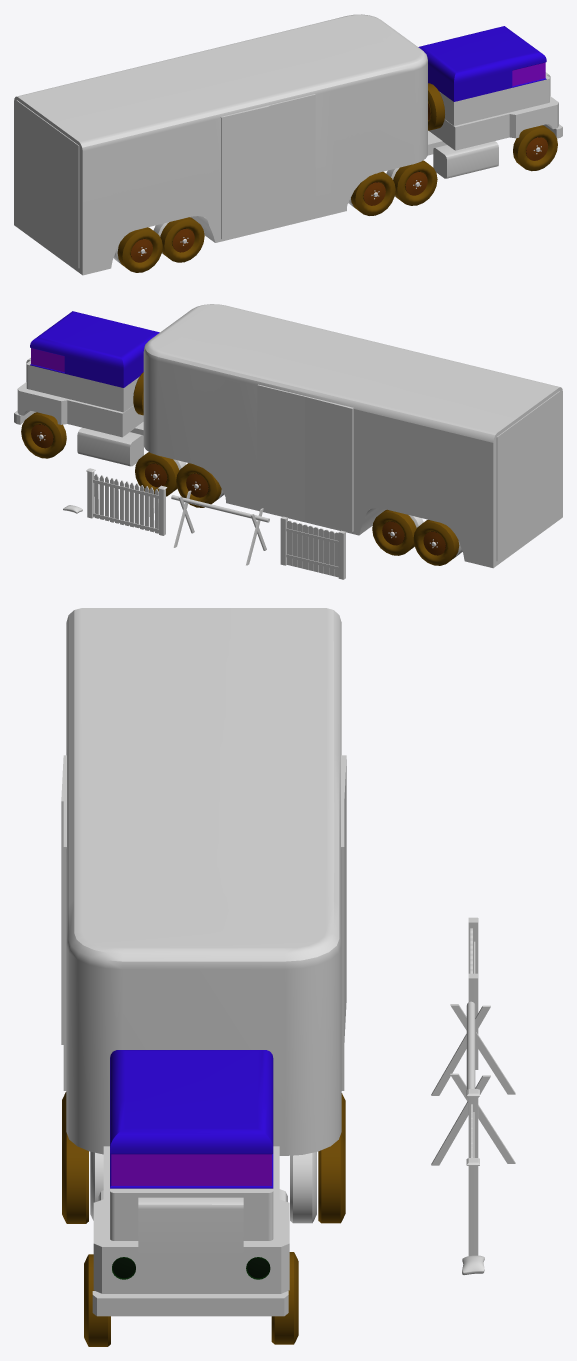
File: UVOne.fbx
3 views of the same model, one above another, from view 1: azimuth 30°, elevation 25°; view 2: azimuth 150°, elevation 25°; view 3: azimuth 270°, elevation 25° (orthographic). The views are drawn at different scales.
Visible parts, largest first — view 1: trailermain, pCylinder1 (×6), trailerDoor, top, door1, door2, mid2, mid1, tank1, mid3; view 2: trailermain, trailerDoor, pCylinder1 (×6), top, door3, door4, Fence_grp1_Fence_Pole, BrownFence_grp1_Post, mid2, tank3, mid1, mid3 (+1 smaller); view 3: trailermain, top, mid3, pCylinder1 (×4), front1, bottom, mid2, Fence_grp1_Fence_Pole, pCylinder13, door2, door4, BrownFence_grp1_Post (+2 smaller).
Boxes of the visible parts, left/top/right/bottom form: trailermain: left=14, top=14, right=427, bottom=275; pCylinder1 (×6): left=117, top=83, right=557, bottom=272; trailerDoor: left=16, top=100, right=79, bottom=268; top: left=418, top=26, right=546, bottom=101; door1: left=220, top=105, right=269, bottom=239; door2: left=268, top=94, right=315, bottom=227; mid2: left=439, top=75, right=549, bottom=125; mid1: left=429, top=113, right=509, bottom=150; tank1: left=433, top=141, right=498, bottom=178; mid3: left=508, top=96, right=558, bottom=138; trailermain: left=143, top=304, right=562, bottom=568; trailerDoor: left=496, top=391, right=560, bottom=561; pCylinder1 (×6): left=21, top=372, right=459, bottom=565; top: left=30, top=311, right=159, bottom=387; door3: left=305, top=396, right=353, bottom=531; door4: left=257, top=384, right=305, bottom=519; Fence_grp1_Fence_Pole: left=86, top=468, right=167, bottom=535; BrownFence_grp1_Post: left=280, top=516, right=345, bottom=579; mid2: left=26, top=360, right=139, bottom=412; tank3: left=77, top=427, right=143, bottom=466; mid1: left=67, top=399, right=143, bottom=437; mid3: left=17, top=382, right=68, bottom=424; trailermain: left=66, top=608, right=341, bottom=1155; top: left=110, top=1050, right=273, bottom=1188; mid3: left=93, top=1199, right=289, bottom=1293; pCylinder1 (×4): left=62, top=1132, right=345, bottom=1346; front1: left=138, top=1197, right=243, bottom=1253; bottom: left=92, top=1291, right=288, bottom=1316; mid2: left=110, top=1188, right=273, bottom=1240; Fence_grp1_Fence_Pole: left=466, top=1089, right=479, bottom=1255; pCylinder13: left=290, top=1152, right=316, bottom=1223; door2: left=63, top=801, right=66, bottom=1090; door4: left=341, top=801, right=344, bottom=1090; BrownFence_grp1_Post: left=468, top=917, right=478, bottom=1069.
Bounding box in the file's own units: 14.54 × 4.14 × 5.86.
